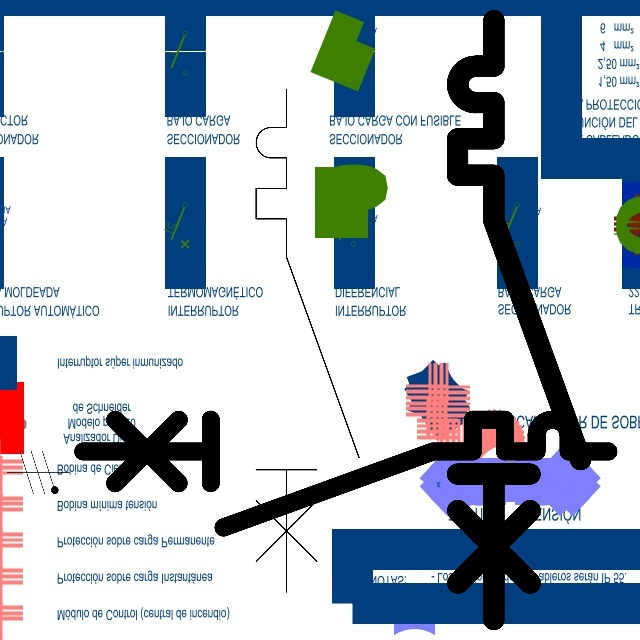interruptor_termomagnetico: (442, 5, 596, 635), (69, 406, 621, 541), (243, 76, 372, 605)
